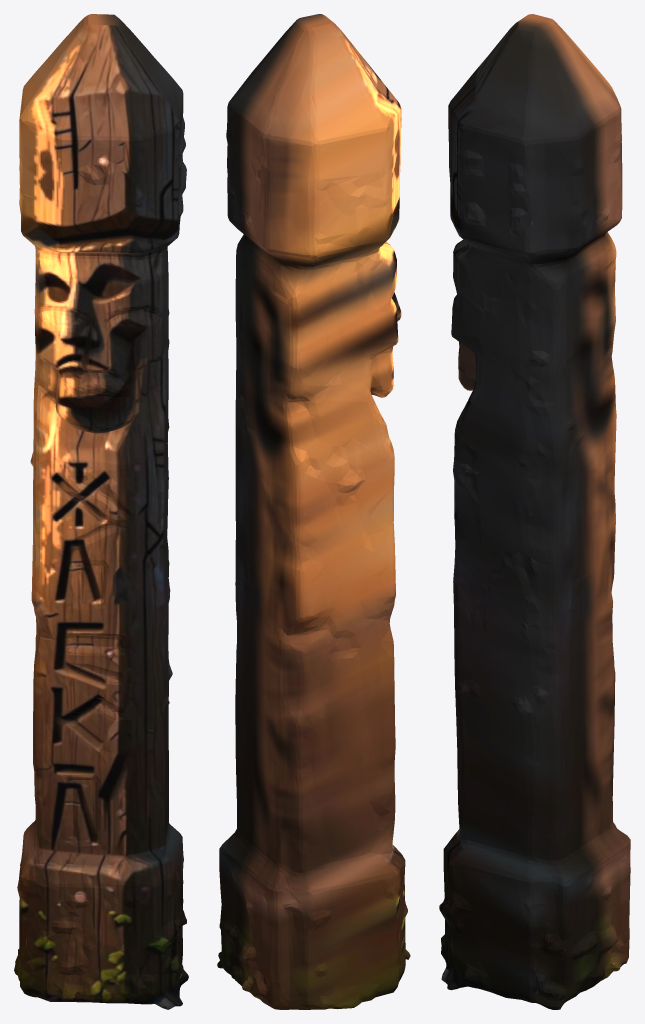
Rendered from palisade_post.glb.
3 renders of one model, left to right at view 1: azimuth 30°, elevation 25°; view 2: azimuth 150°, elevation 25°; view 3: azimuth 270°, elevation 25°, orthographic.
Parts seen in each view (by area): view 1: palisade_post; view 2: palisade_post; view 3: palisade_post.
Part boxes in pixels (bbox=[...]): palisade_post: bbox=[14, 14, 188, 1009]; palisade_post: bbox=[217, 14, 410, 1009]; palisade_post: bbox=[439, 14, 630, 1009].
Bounding box in the file's own units: 0.5328 × 2.9 × 0.5287.
1 material, 1 textured.
